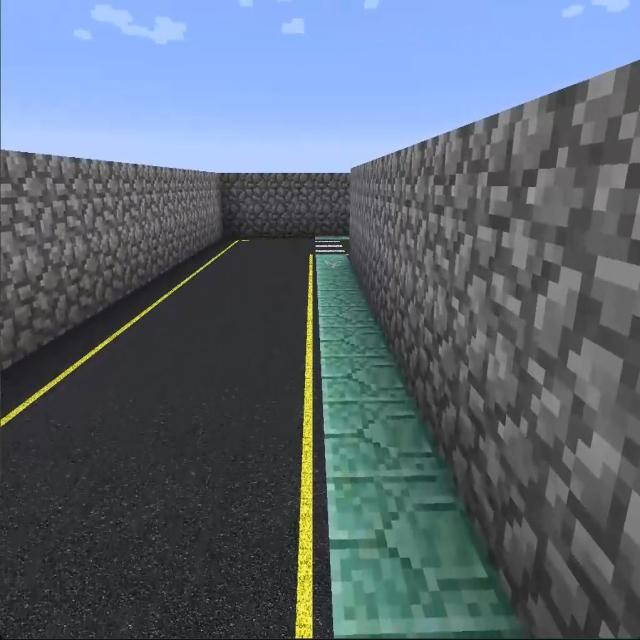crosswalk: (316, 240, 349, 254)
road: (0, 235, 325, 639)
sidewalk: (316, 254, 533, 639), (315, 236, 350, 240)
